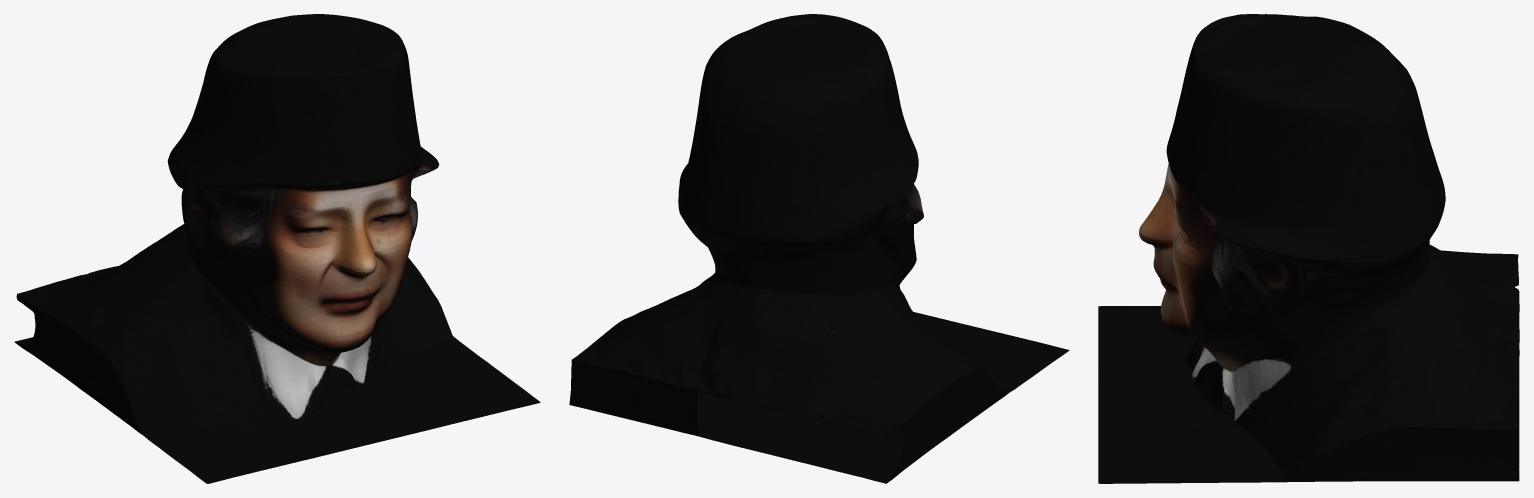
The picture shows the model from 3 angles, left to right: view 1: azimuth 30°, elevation 25°; view 2: azimuth 150°, elevation 25°; view 3: azimuth 270°, elevation 25°; orthographic projection. The views are drawn at different scales.
Parts seen in each view (by area): view 1: world; view 2: world; view 3: world.
Boxes of the visible parts, box(x1,y1,x2,y2) form: world: box(14, 14, 540, 483); world: box(569, 14, 1069, 483); world: box(1098, 14, 1519, 483).
Bounding box in the file's own units: 1 × 0.9573 × 1.
1 material, 1 textured.
